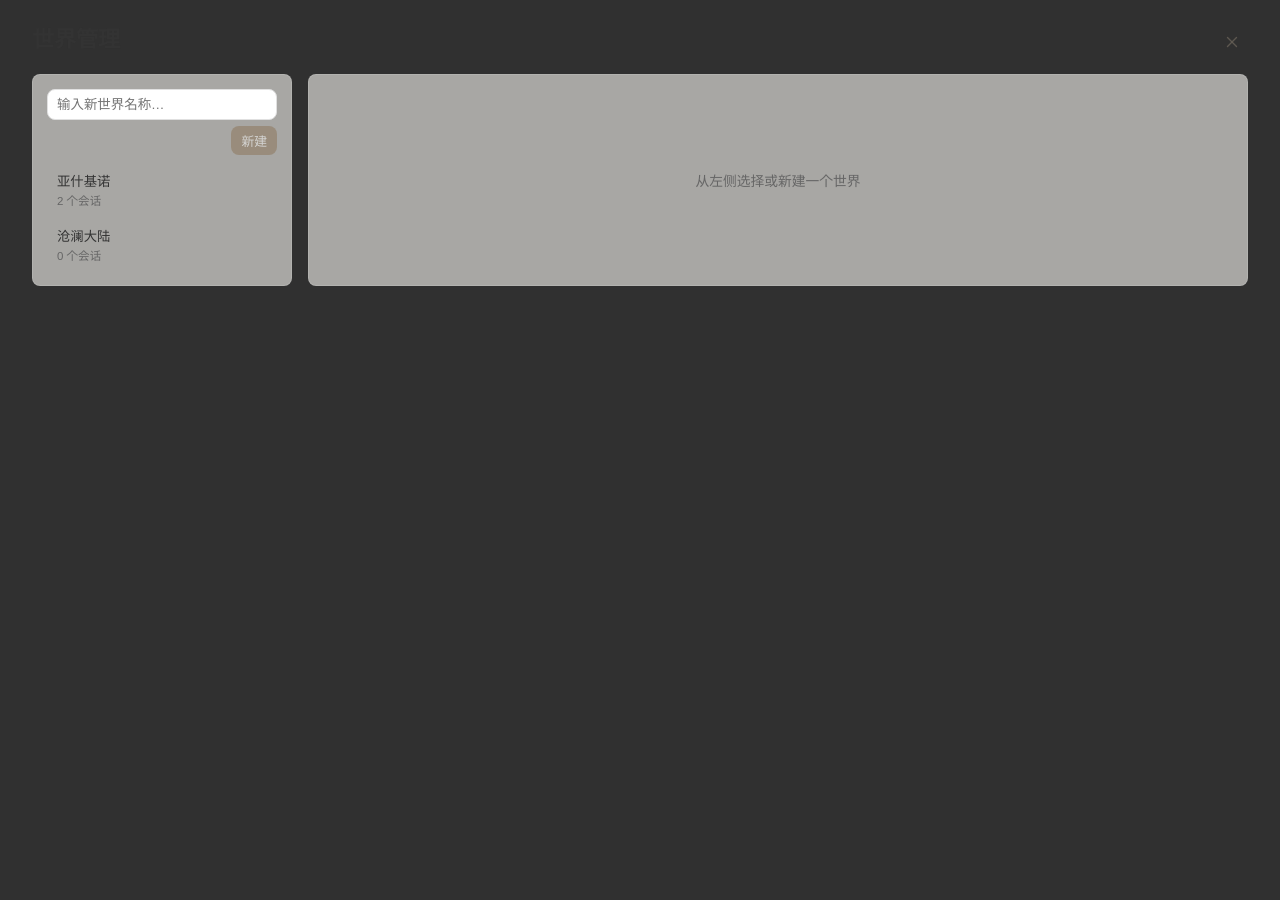
it: WorldManagerSection › 世界剧本约束只在世界管理器按版本保存
The image size is (1280, 900).
Click the button with class "wm-list-item" showing "亚什基诺 2 个会话" at coordinates (162, 190), box [47,163,277,216]
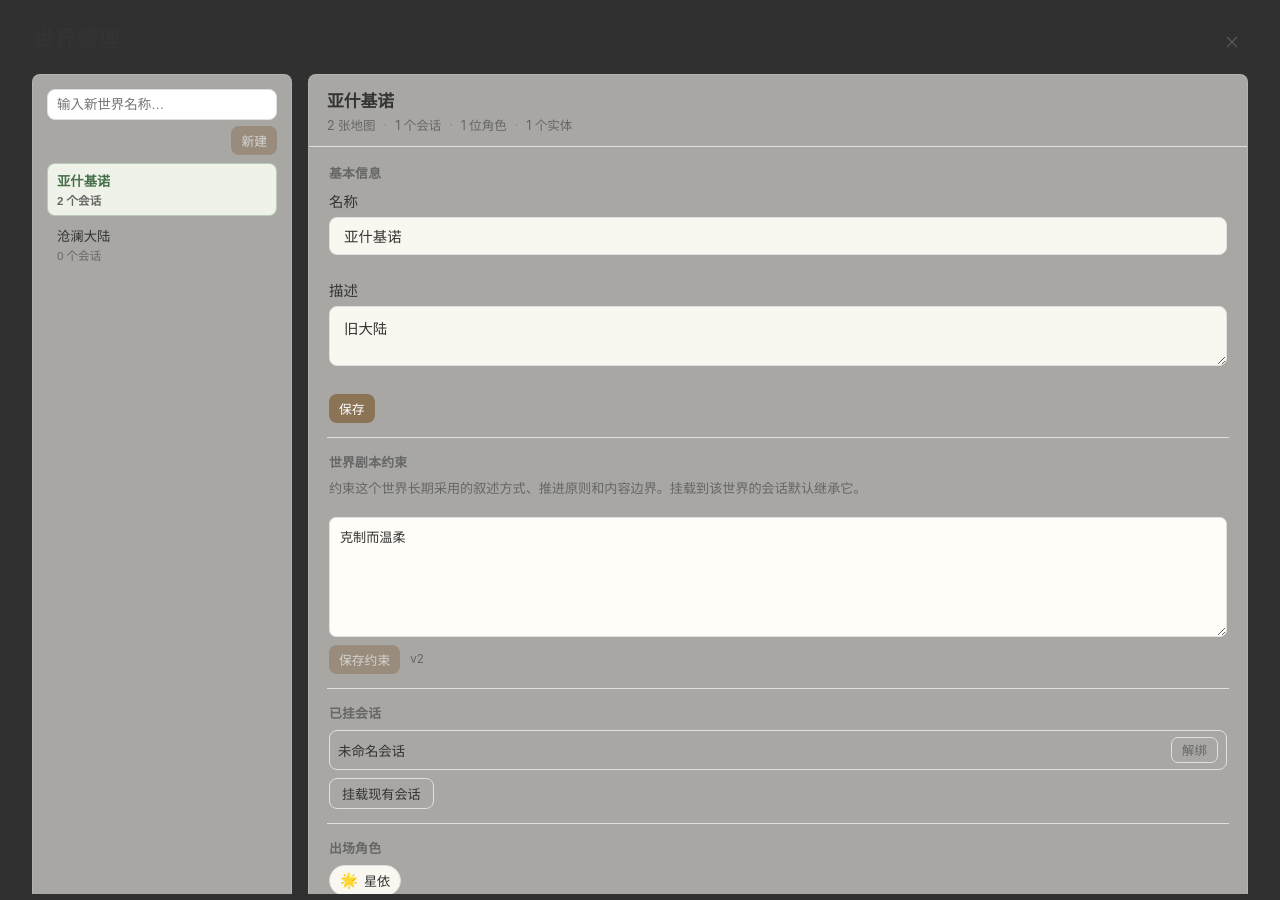
Replace the text in the text box with class "wm-constraint-input" with "更克制的世界约束" at coordinates (778, 577), box [329,517,1227,637]
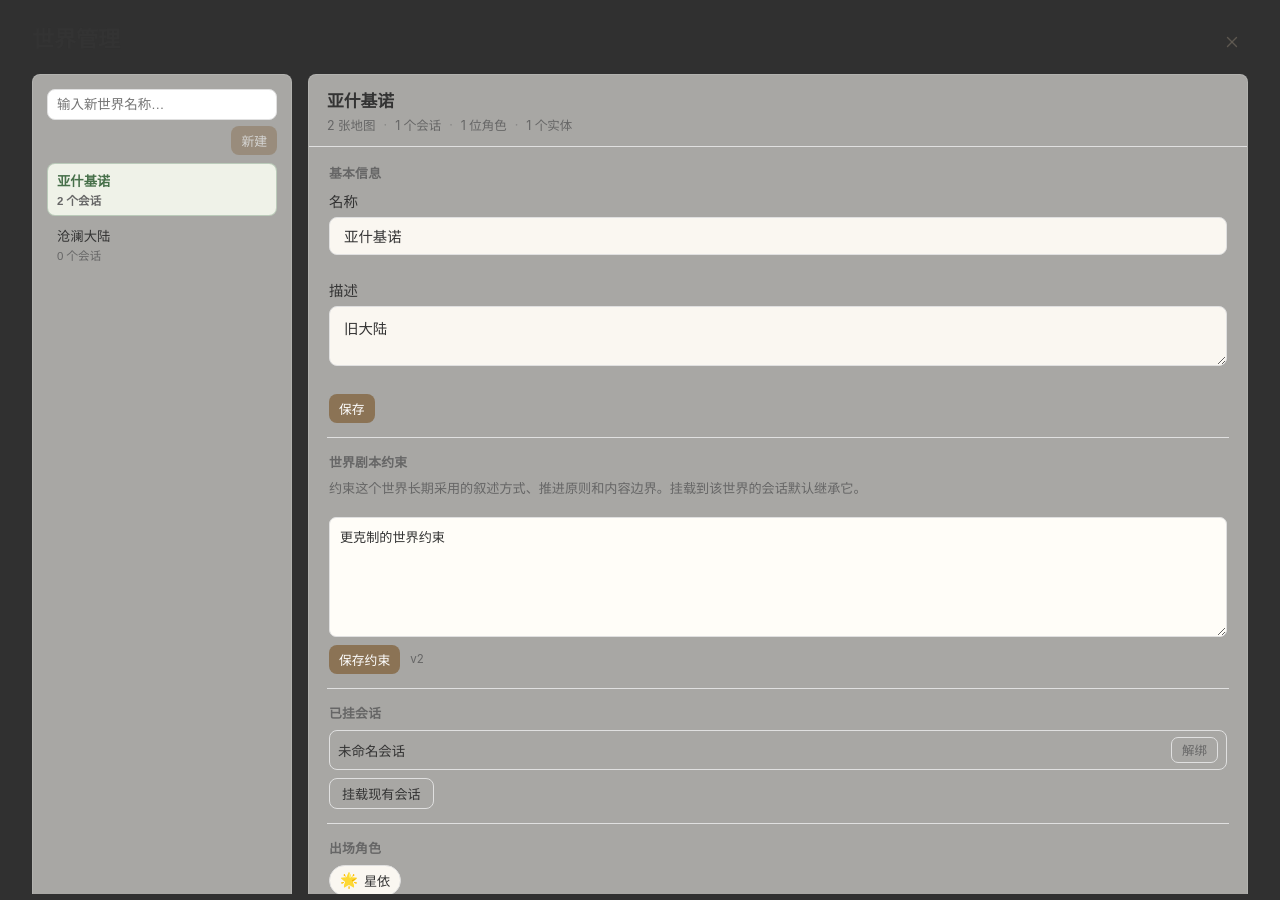
Click the button "保存约束" at coordinates (365, 659), box [329,645,400,674]
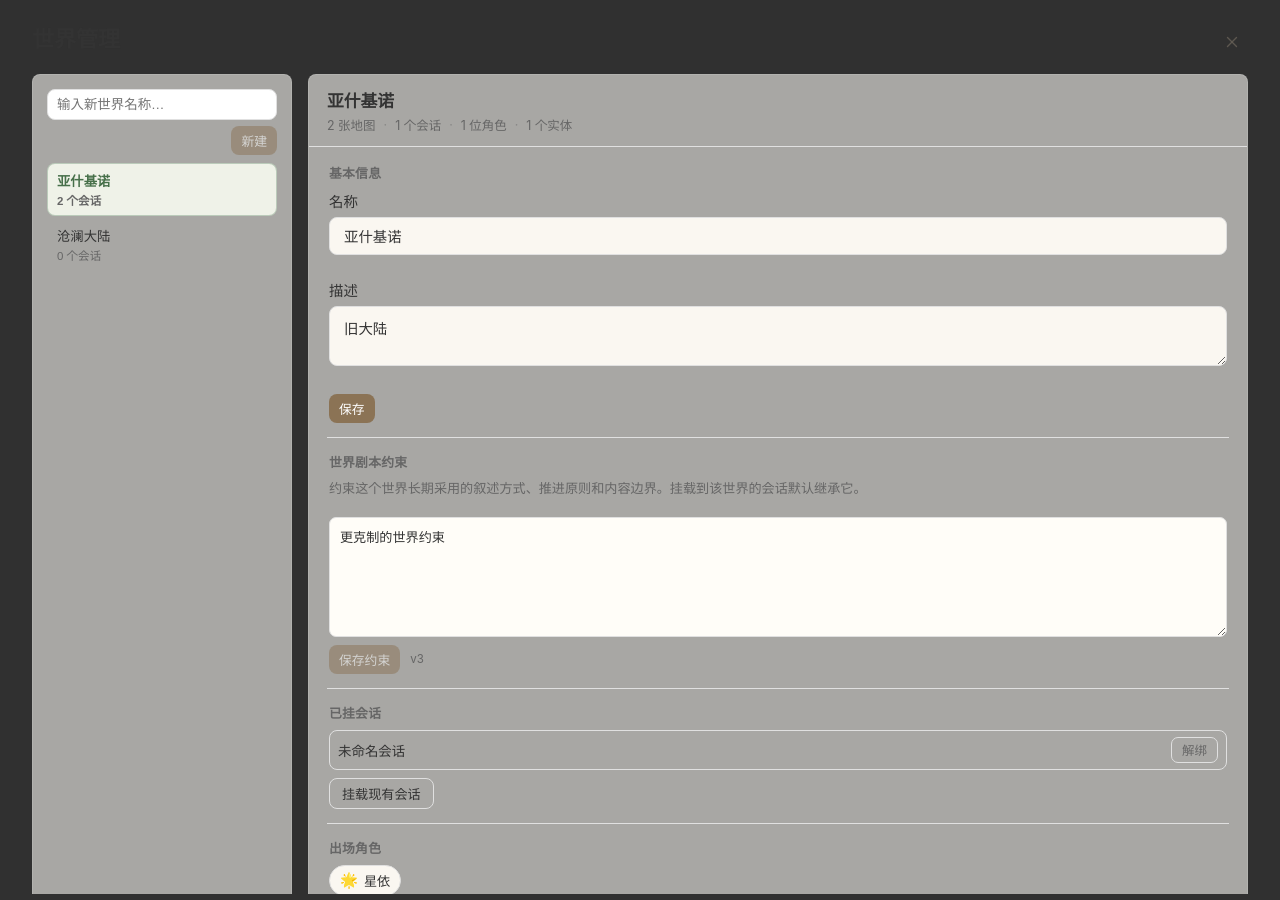
Check: the text with class "wm-constraint-version" reads "v3", box [410,652,424,666]
